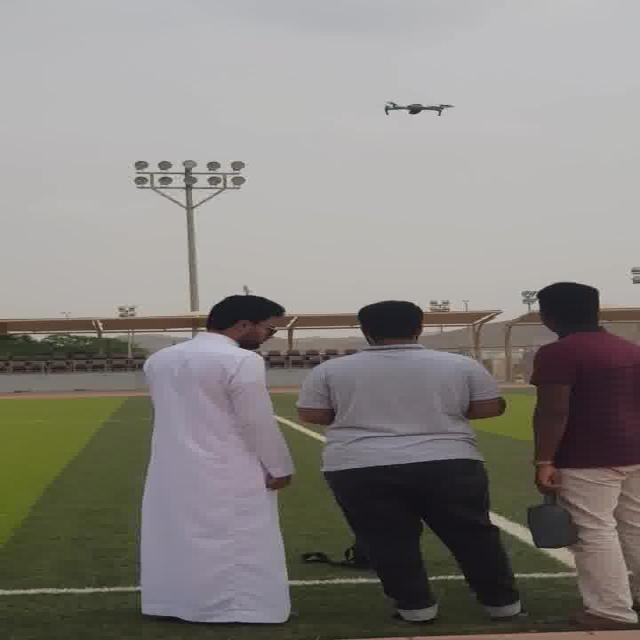drone: (373, 92, 458, 120)
